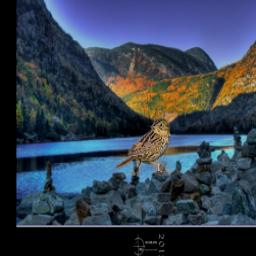Sparrow: (115, 118, 171, 177)
